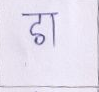aa_matra: (52, 15, 55, 47)
